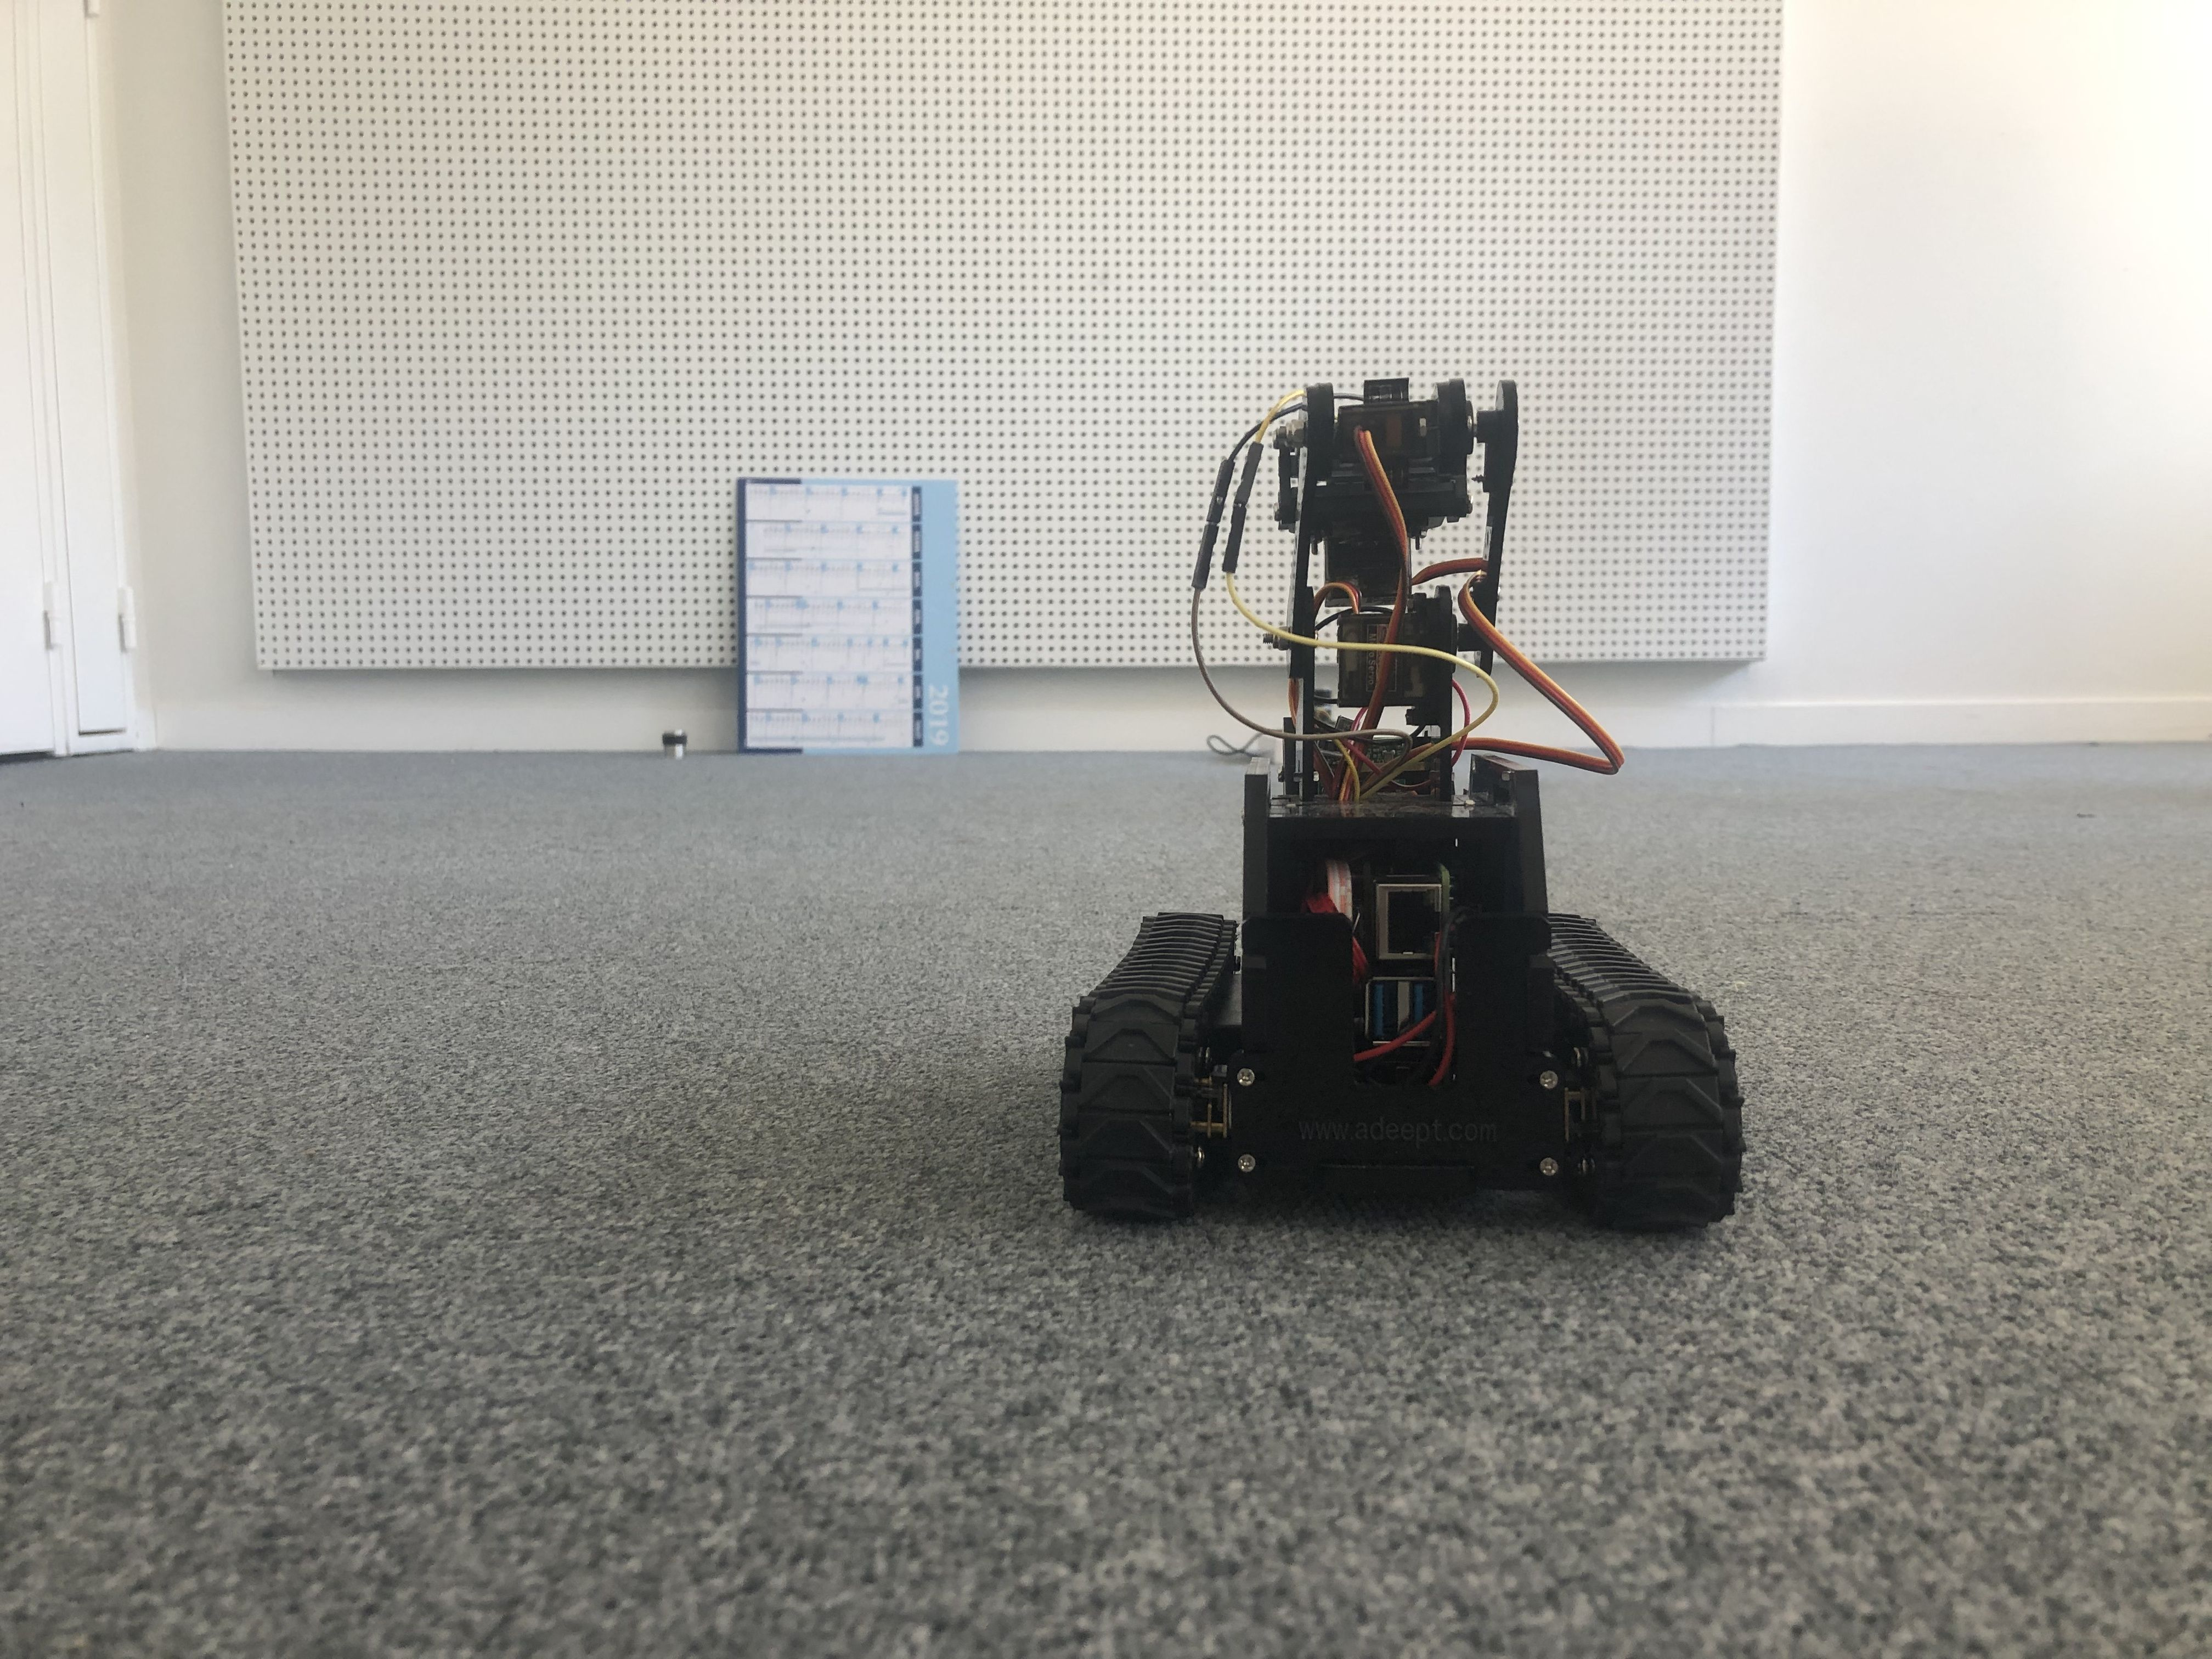rasptank: (1049, 354, 1777, 1229)
